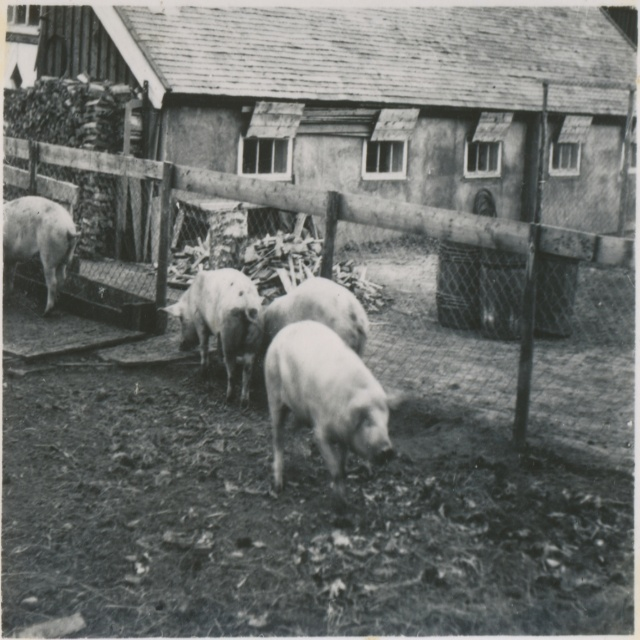Pig: (264, 322, 398, 503), (156, 267, 265, 411), (0, 195, 83, 319), (262, 275, 370, 362)
